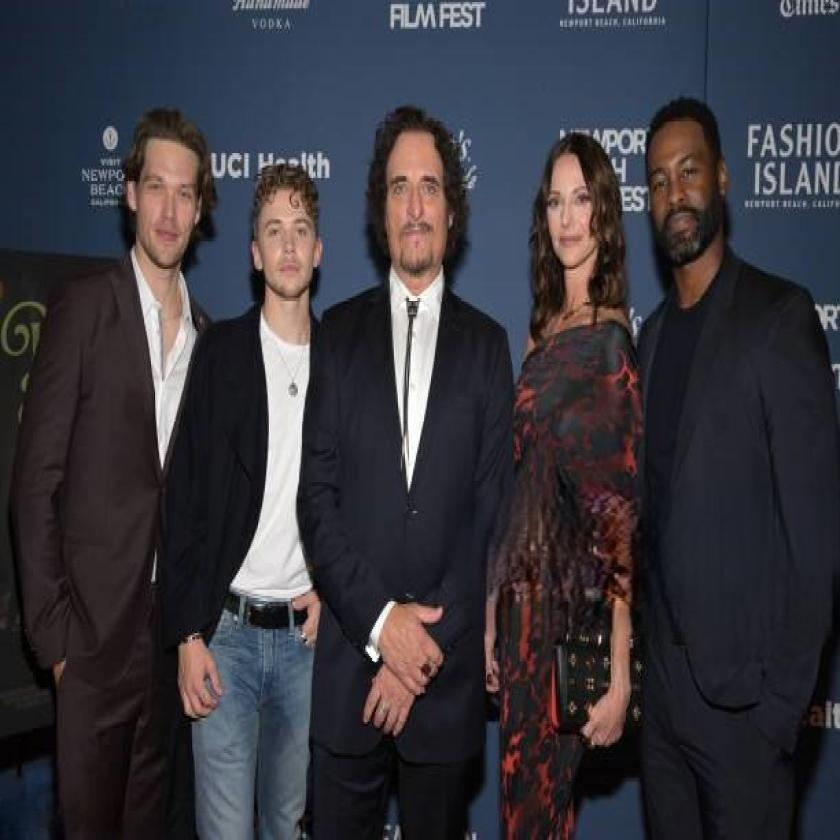Sin_casco: (120, 95, 221, 308), (637, 97, 740, 301), (532, 110, 632, 309), (371, 98, 465, 306), (252, 158, 328, 325)
